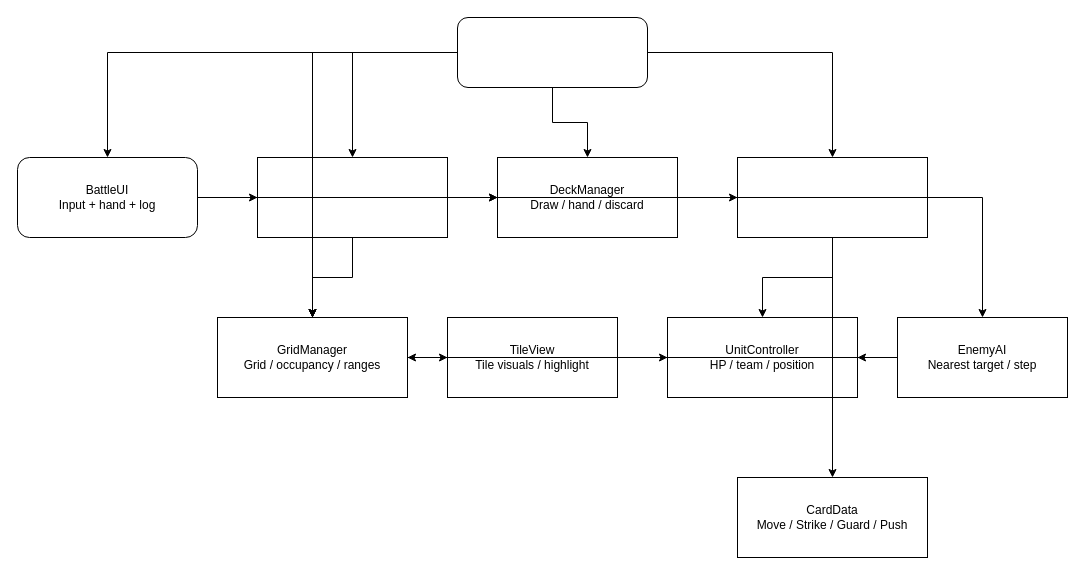
Image size: 1085x575. Some labels were removed from this diagram. The shapes that lost their labels are listed below. From the top down, each one's centre as x and y in pixels, then its label:
At (x=552, y=52): "GameRoot Scene bootstrap / wiring".
At (x=352, y=197): "TurnManager Turn flow / enemy summary".
At (x=832, y=197): "CardResolver Validate / resolve cards".
